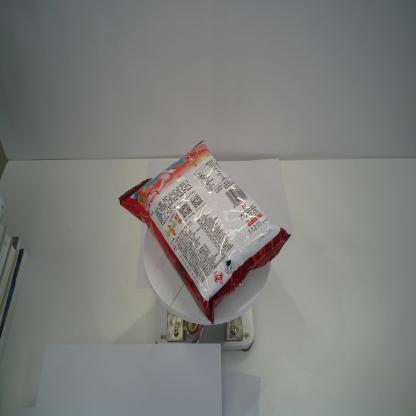Puffed Food: (117, 139, 292, 327)
